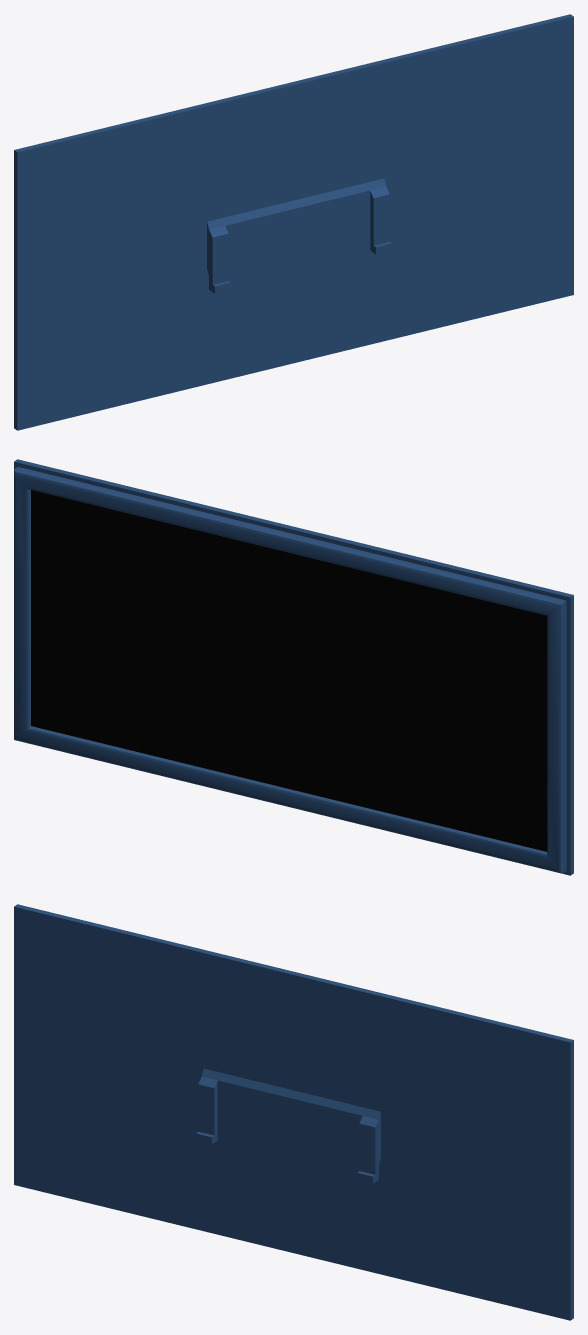
3 renders of one model, top to bottom at view 1: azimuth 30°, elevation 25°; view 2: azimuth 150°, elevation 25°; view 3: azimuth 330°, elevation 25°, orthographic.
Visible parts, largest first — view 1: TV; view 2: TV; view 3: TV.
Boxes of the visible parts, x1,y1,x2,y2 form: TV: (14,14,573,430); TV: (14,459,573,875); TV: (14,904,573,1320).
Bounding box in the file's own units: 143 × 68.39 × 7.29.
